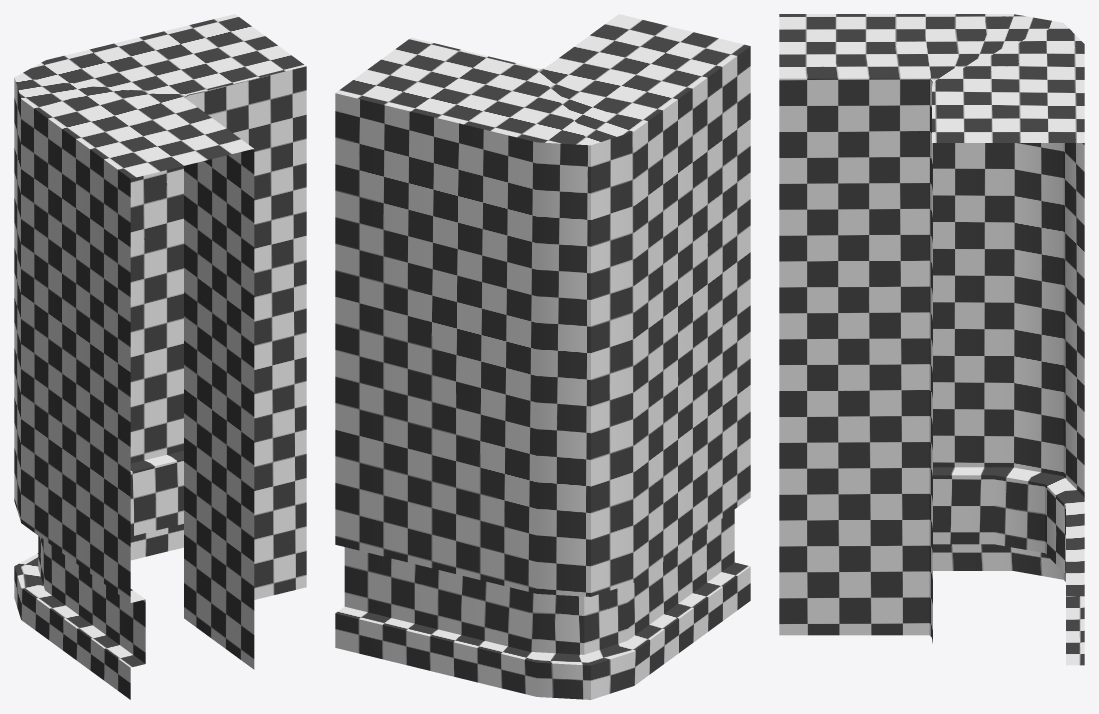
File: Angle_Back_Left.fbx
3 views of the same model, side by side, from view 1: azimuth 30°, elevation 25°; view 2: azimuth 150°, elevation 25°; view 3: azimuth 270°, elevation 25° (orthographic). The views are drawn at different scales.
Visible parts, largest first — view 1: Angle_Back_Left; view 2: Angle_Back_Left; view 3: Angle_Back_Left.
Boxes of the visible parts, x1,y1,x2,y2 form: Angle_Back_Left: (14,14,306,699); Angle_Back_Left: (335,14,750,699); Angle_Back_Left: (779,14,1084,665).
Bounding box in the file's own units: 100 × 201 × 100.
Materials: 1 (1 with a texture image).
